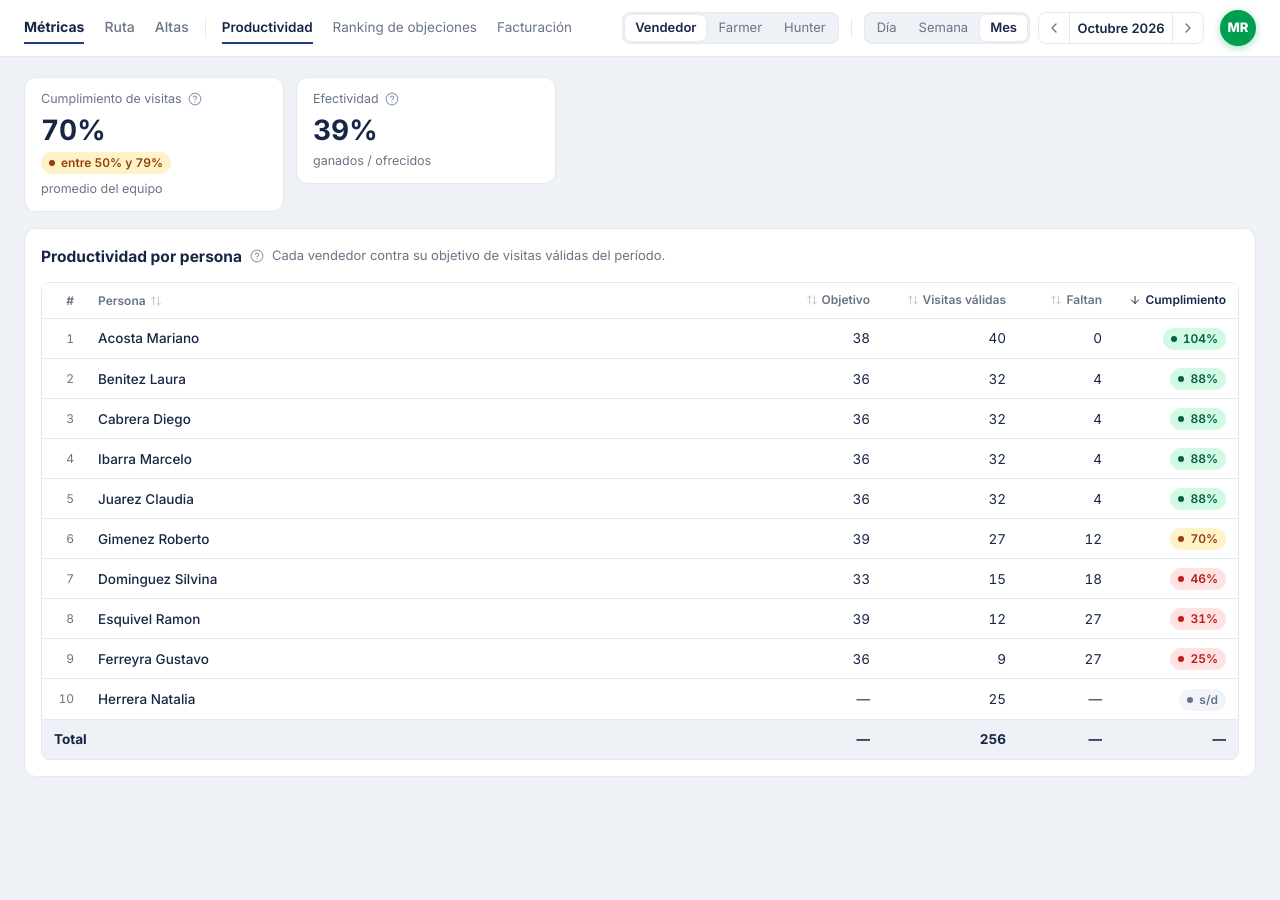
Test: Productividad (vista por defecto) › si falla Televentas, los vendedores se siguen viendo y el aviso sale al pasar a un perfil de TV
Check: the row with test id "fila-productividad-V1" is shown, box [42,319,1238,359]
Click the button "Farmer" at (740, 28), box [708,15,772,41]
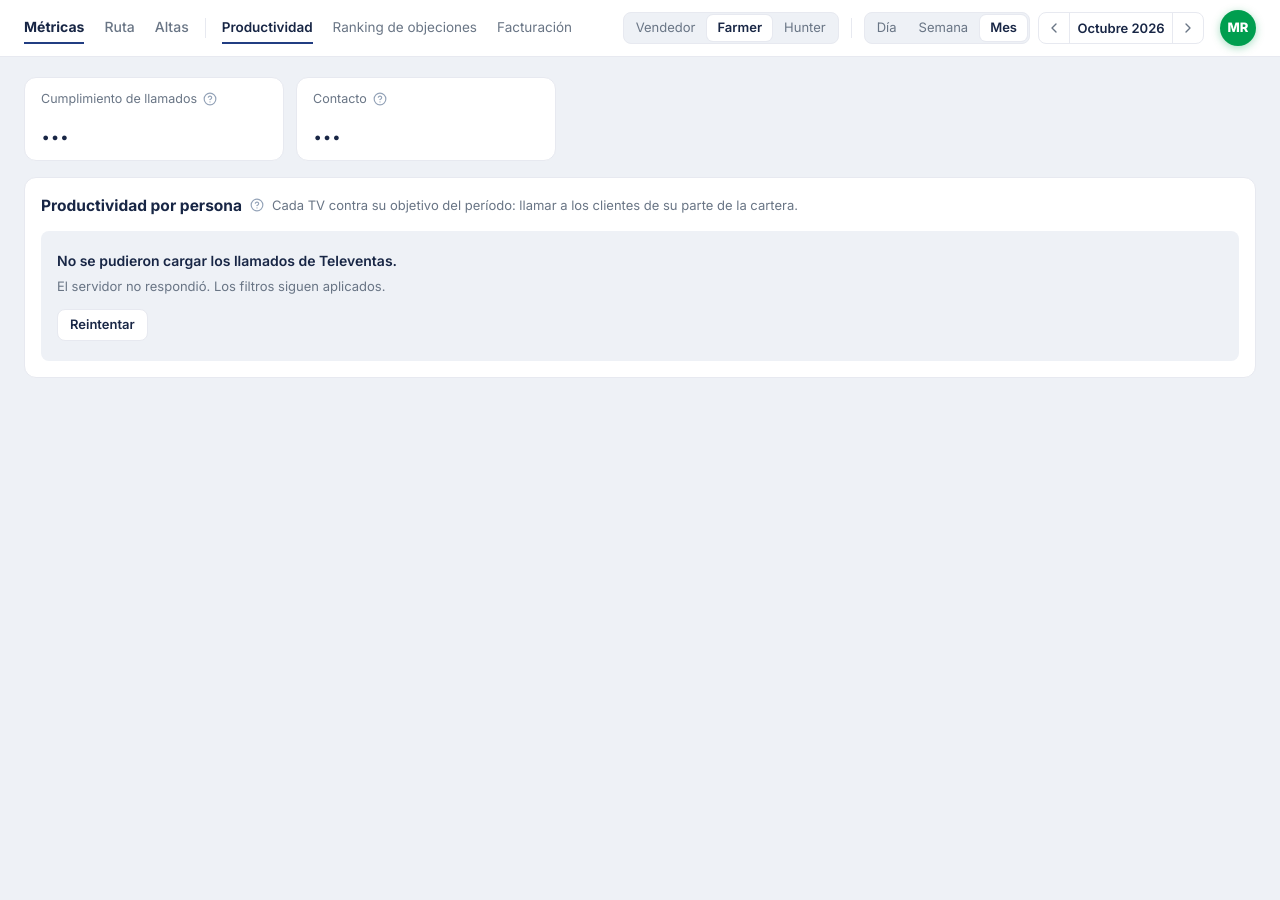
Check: the text "No se pudieron cargar los llamados de Televentas." is shown, box [57,251,397,271]
